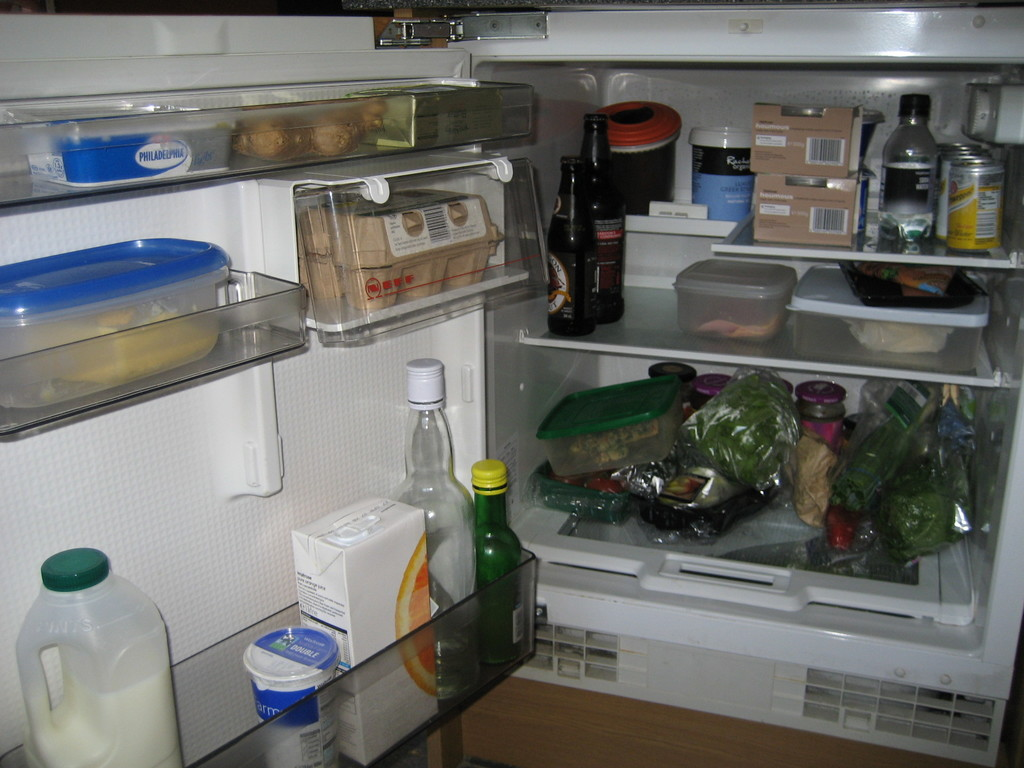refrigerator door: (8, 32, 478, 727)
